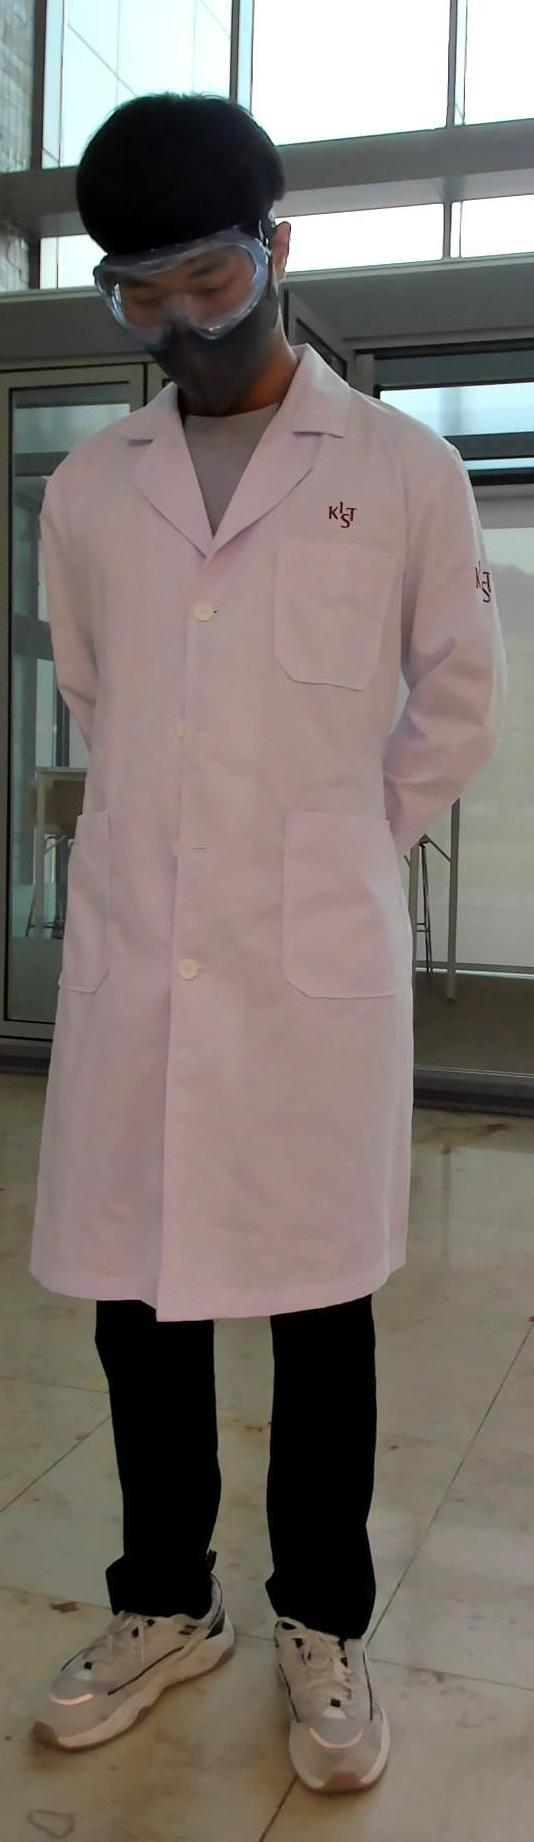lab_coat: (21, 396, 500, 1309)
